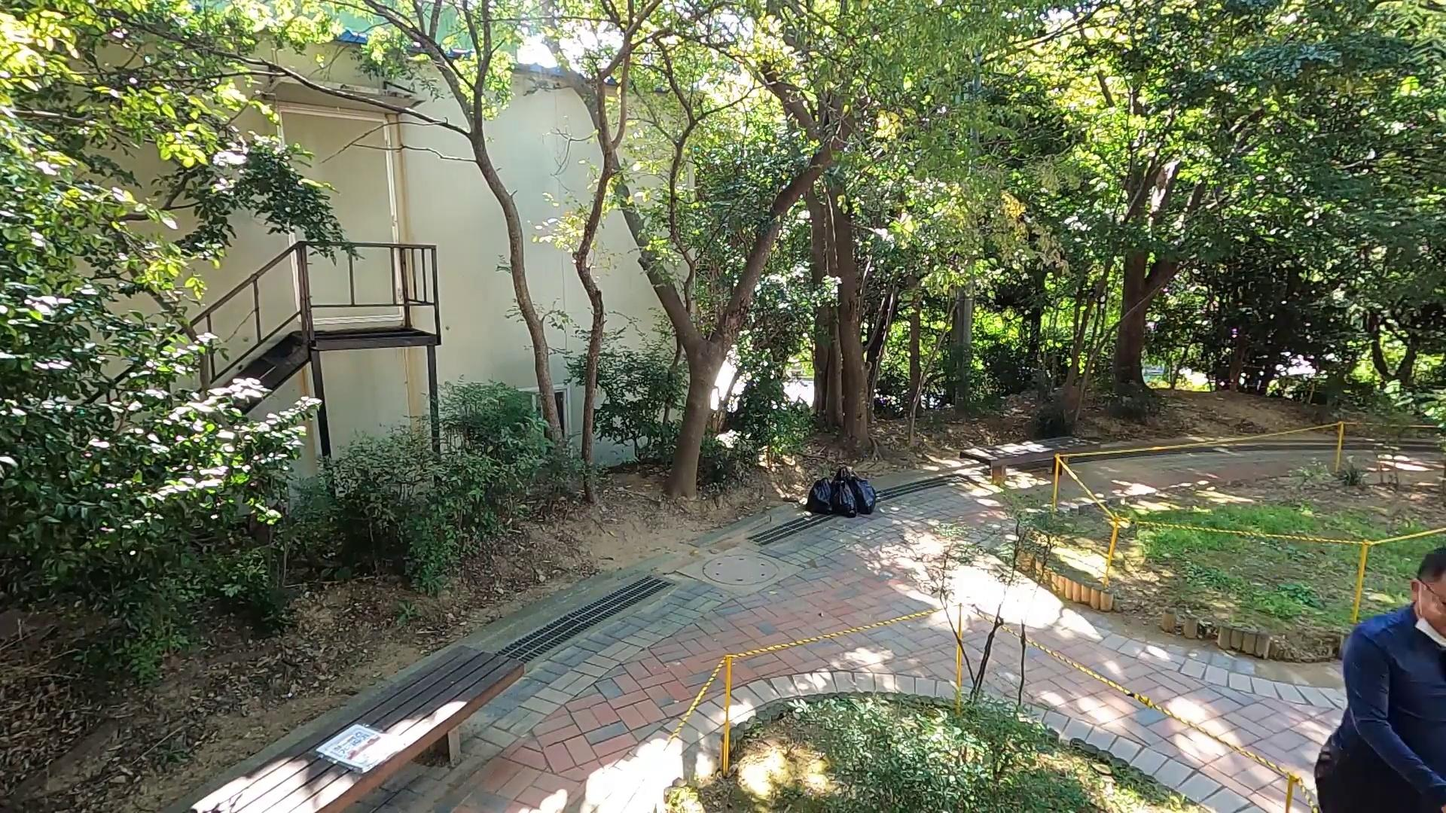person: (1305, 548, 1446, 813)
trash: (829, 466, 858, 510), (848, 474, 878, 513), (832, 481, 857, 519), (807, 477, 832, 513)
